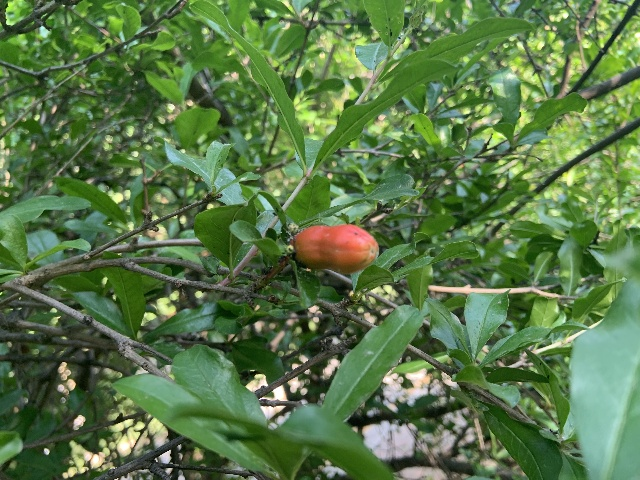bud: (293, 223, 378, 274)
